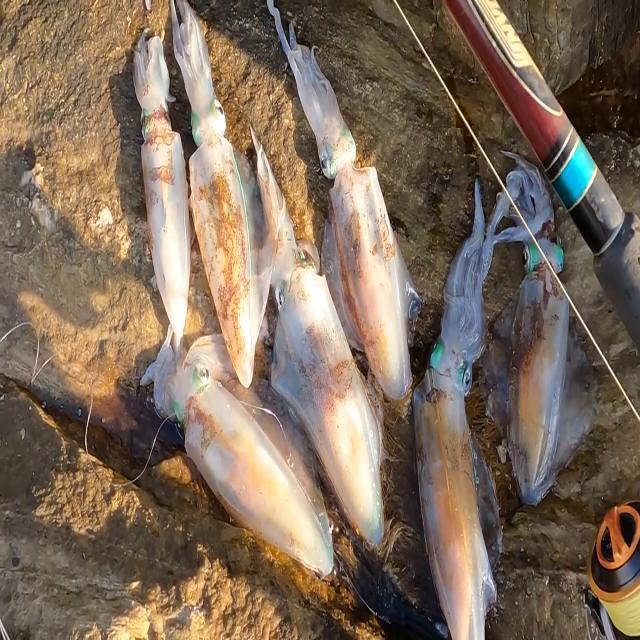squid: (249, 129, 389, 549), (160, 333, 334, 580), (414, 185, 502, 640), (172, 0, 274, 389), (484, 150, 596, 504), (290, 5, 420, 238), (130, 36, 193, 344)
